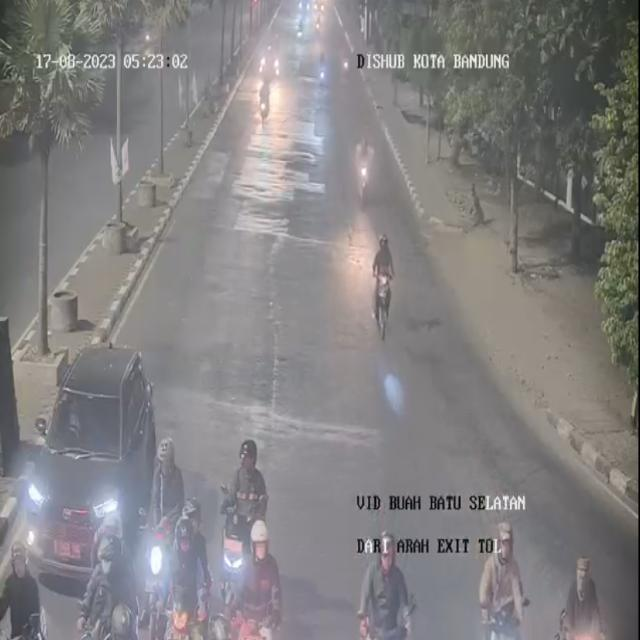cars: (28, 336, 156, 591)
motorcycle: (118, 424, 190, 621), (201, 437, 275, 581), (60, 506, 128, 640), (475, 499, 534, 640), (225, 506, 284, 630), (362, 522, 409, 640), (162, 486, 210, 597), (0, 524, 44, 636), (366, 215, 400, 337), (348, 120, 376, 203), (254, 80, 278, 137), (340, 38, 355, 81), (316, 52, 330, 83)
